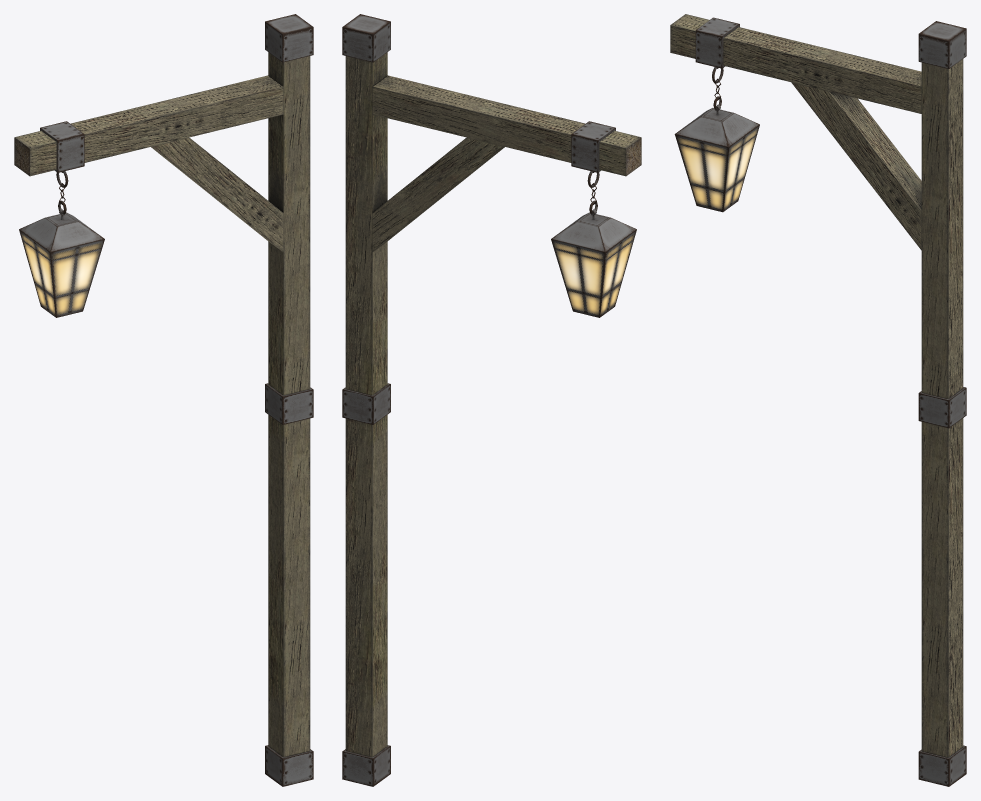
The picture shows the model from 3 angles, left to right: view 1: azimuth 30°, elevation 25°; view 2: azimuth 150°, elevation 25°; view 3: azimuth 330°, elevation 25°; orthographic projection.
Visible parts, largest first — view 1: Lantern; view 2: Lantern; view 3: Lantern.
Boxes of the visible parts, left/top/right/bottom form: Lantern: left=14, top=14, right=313, bottom=786; Lantern: left=342, top=14, right=641, bottom=786; Lantern: left=670, top=14, right=966, bottom=786.
Size of the model in its own units: 1.15 by 2.91 by 0.2215.
Materials: 1 (1 with a texture image).
